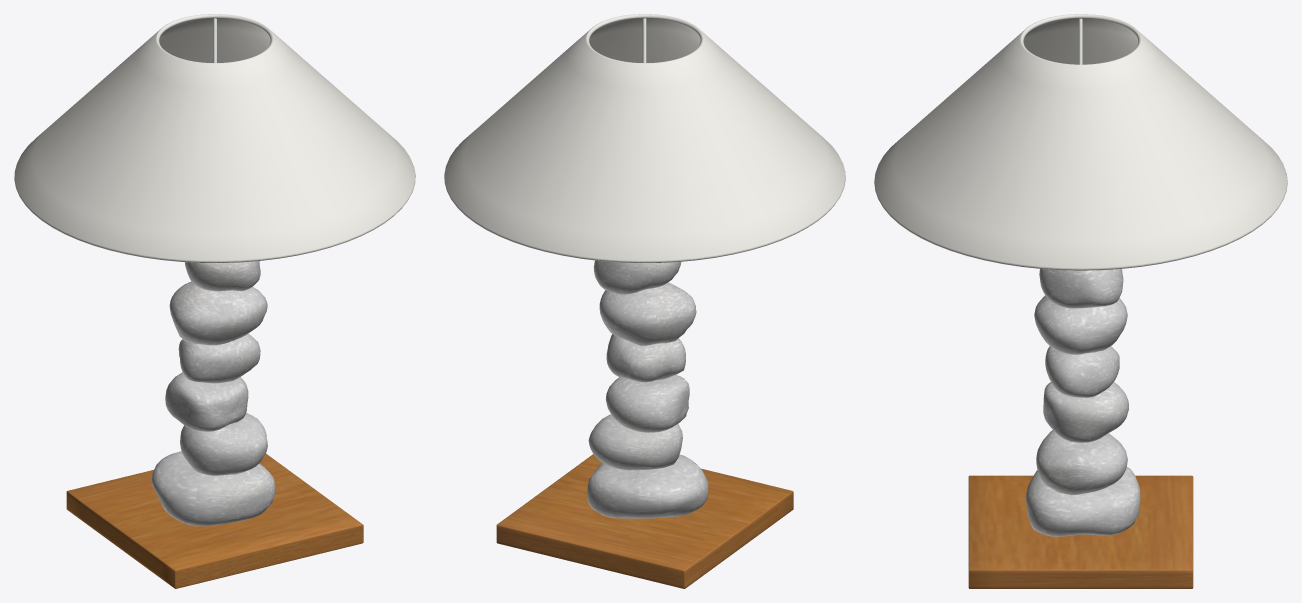
The model's file is lamp_table.glb.
3 renders of one model, left to right at view 1: azimuth 30°, elevation 25°; view 2: azimuth 150°, elevation 25°; view 3: azimuth 270°, elevation 25°, orthographic. The views are drawn at different scales.
Visible parts, largest first — view 1: Cylinder.002, Cube, Sphere.001, Sphere.005, Sphere.002, Sphere.003, Sphere.004, Sphere.006; view 2: Cylinder.002, Cube, Sphere.001, Sphere.005, Sphere.003, Sphere.002, Sphere.004, Sphere.006; view 3: Cylinder.002, Cube, Sphere.001, Sphere.002, Sphere.005, Sphere.003, Sphere.004, Sphere.006.
Part boxes in pixels (left/top/right/bottom): Cylinder.002: left=14, top=14, right=415, bottom=262; Cube: left=66, top=453, right=363, bottom=588; Sphere.001: left=151, top=451, right=275, bottom=526; Sphere.005: left=169, top=281, right=267, bottom=345; Sphere.002: left=180, top=413, right=267, bottom=475; Sphere.003: left=165, top=372, right=248, bottom=431; Sphere.004: left=178, top=333, right=260, bottom=383; Sphere.006: left=184, top=261, right=260, bottom=291; Cylinder.002: left=444, top=14, right=845, bottom=263; Cube: left=496, top=454, right=793, bottom=588; Sphere.001: left=587, top=454, right=708, bottom=518; Sphere.005: left=599, top=282, right=696, bottom=345; Sphere.003: left=605, top=375, right=689, bottom=432; Sphere.002: left=588, top=414, right=682, bottom=470; Sphere.004: left=606, top=334, right=685, bottom=382; Sphere.006: left=593, top=260, right=681, bottom=294; Cylinder.002: left=874, top=14, right=1287, bottom=270; Cube: left=968, top=475, right=1193, bottom=588; Sphere.001: left=1026, top=466, right=1140, bottom=536; Sphere.002: left=1036, top=430, right=1127, bottom=495; Sphere.005: left=1034, top=295, right=1127, bottom=354; Sphere.003: left=1043, top=382, right=1128, bottom=442; Sphere.004: left=1045, top=346, right=1119, bottom=397; Sphere.006: left=1039, top=269, right=1123, bottom=308.
Size of the model in its own units: 0.305 by 0.409 by 0.305.
4 materials, 2 textured.
